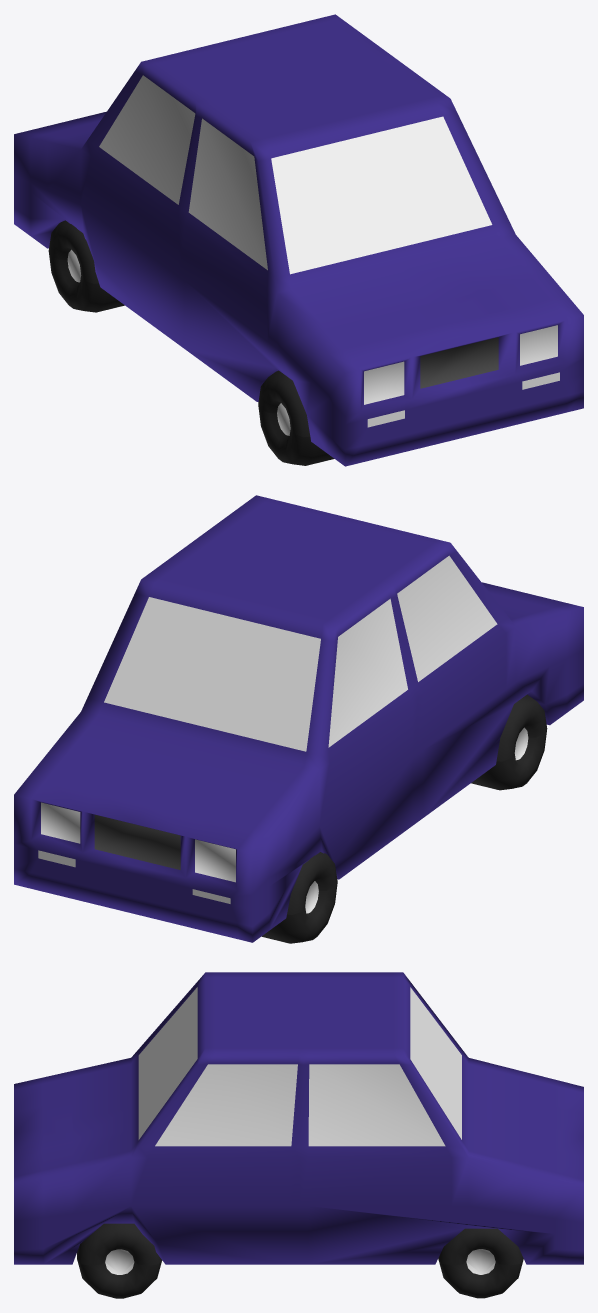
Rendered from carA.fbx.
The picture shows the model from 3 angles, top to bottom: view 1: azimuth 30°, elevation 25°; view 2: azimuth 150°, elevation 25°; view 3: azimuth 270°, elevation 25°; orthographic projection. The views are drawn at different scales.
Parts seen in each view (by area): view 1: Cube, Cube.004, Cube.003; view 2: Cube, Cube.004, Cube.003; view 3: Cube, Cube.001, Cube.002.
Boxes of the visible parts, x1,y1,x2,y2 form: Cube: (14, 14, 583, 466); Cube.004: (258, 370, 334, 465); Cube.003: (48, 220, 124, 312); Cube: (14, 495, 583, 942); Cube.004: (471, 694, 547, 790); Cube.003: (262, 852, 337, 943); Cube: (14, 972, 583, 1264); Cube.001: (77, 1223, 162, 1298); Cube.002: (438, 1228, 523, 1298).
Size of the model in its own units: 510 by 536 by 1165.
